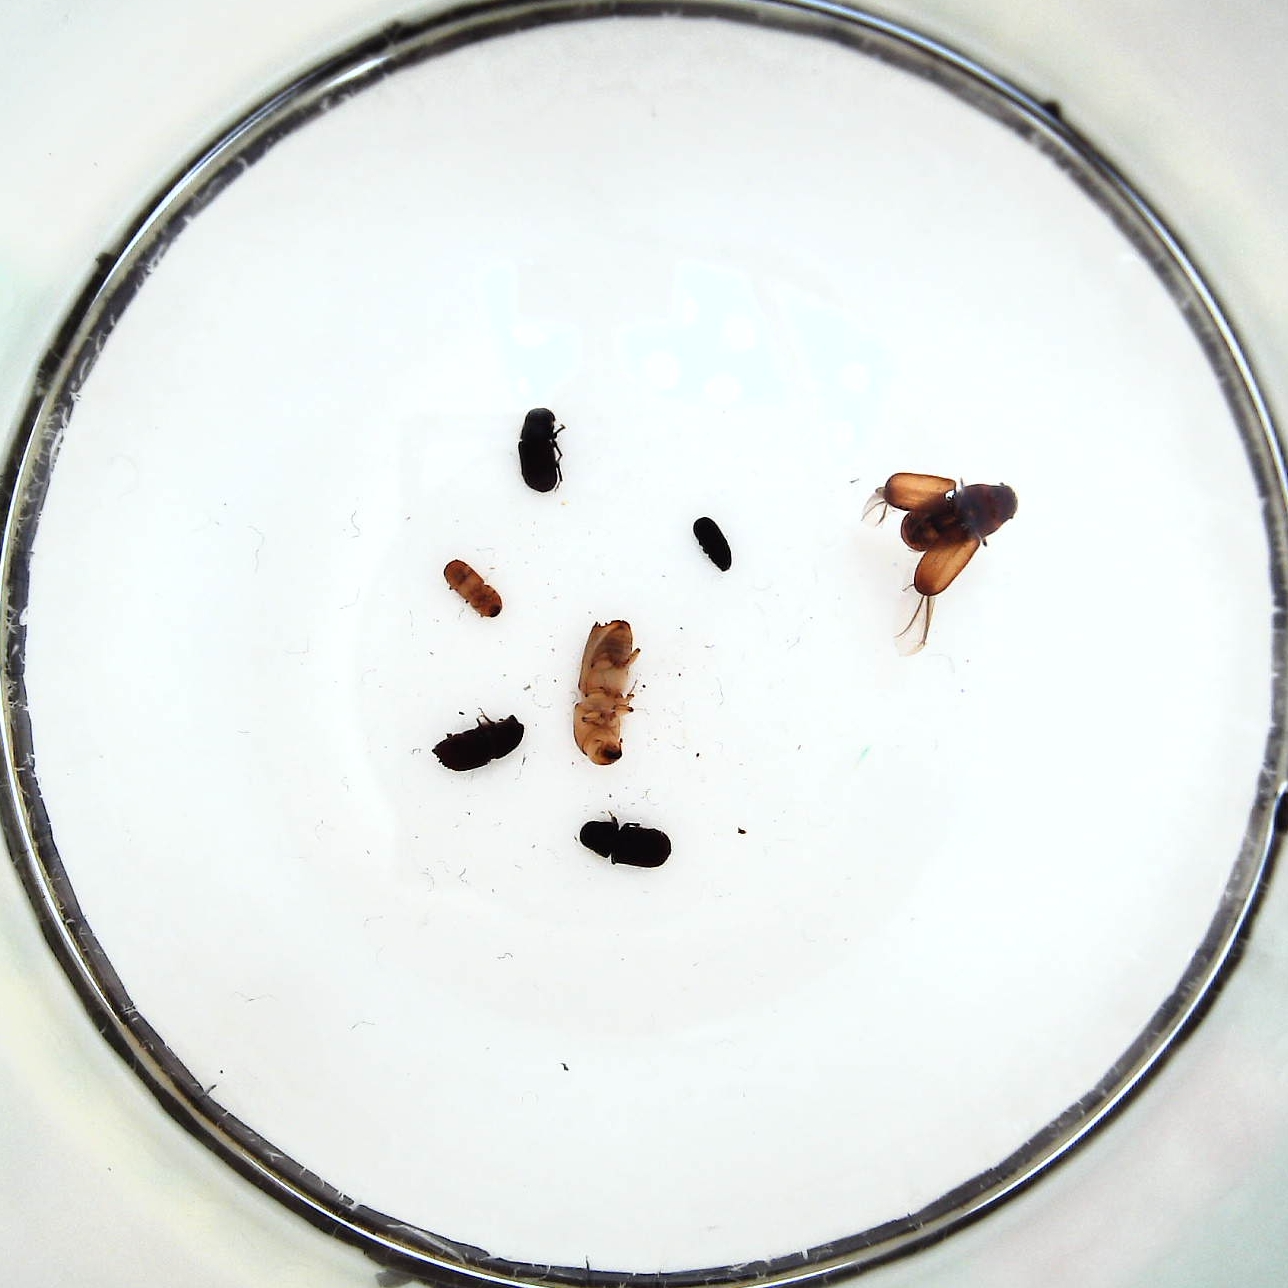Boerner: (572, 615, 642, 768)
Leconte: (876, 471, 1019, 599)
Linnaeus: (432, 715, 528, 774)
acuminatus: (442, 556, 502, 622)
armandi: (578, 809, 676, 869), (515, 405, 569, 492)
coleoptera: (688, 512, 740, 573)
